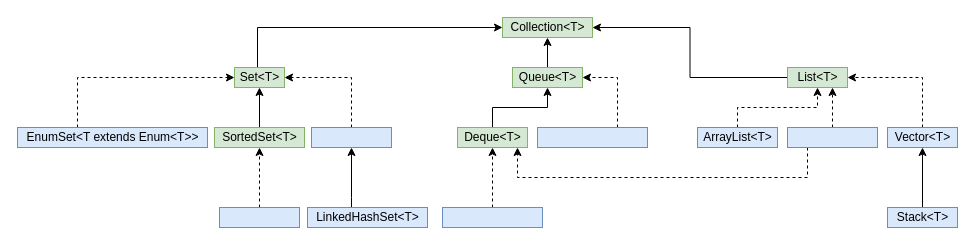
Image size: 975x245. Some labels were removed from this diagram. The shapes that lost their labels are listed below. From the top down, each one's centre as x and y in pixels, then its label:
At (x=351, y=137): "HashSet<T>".
At (x=592, y=137): "PriorityQueue<T>".
At (x=832, y=137): "LinkedList<T>".
At (x=259, y=217): "TreeSet<T>".
At (x=492, y=217): "ArrayDeque<T>".
